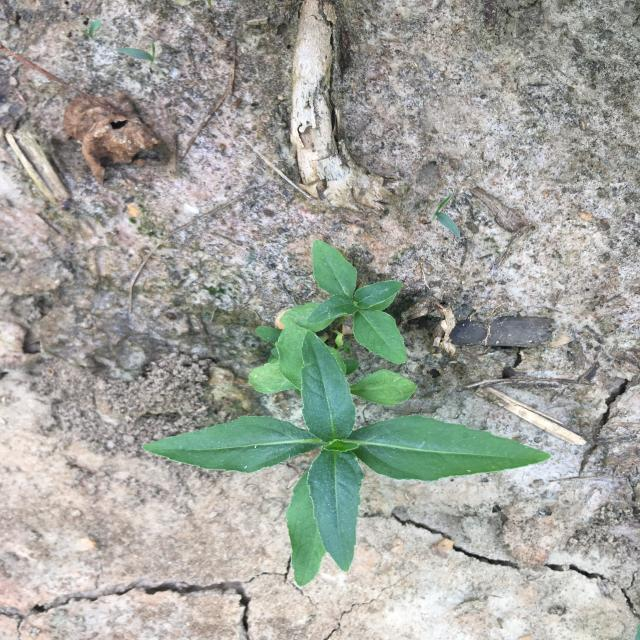Eclipta: (142, 239, 552, 586)
